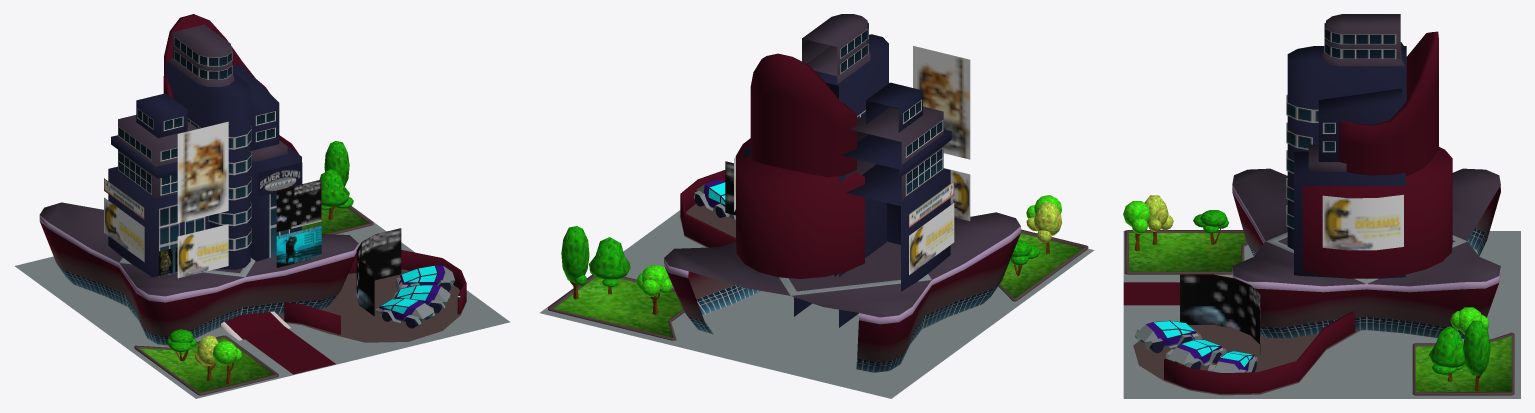
File: cinema_LV3.fbx
3 views of the same model, side by side, from view 1: azimuth 30°, elevation 25°; view 2: azimuth 150°, elevation 25°; view 3: azimuth 270°, elevation 25° (orthographic). The views are drawn at different scales.
Visible parts, largest first — view 1: Cinema_Lv3; view 2: Cinema_Lv3; view 3: Cinema_Lv3.
Part boxes in pixels (x1,y1,x2,y2): Cinema_Lv3: (15,14,510,398); Cinema_Lv3: (540,14,1094,398); Cinema_Lv3: (1123,14,1520,398).
Size of the model in its own units: 120 by 90.89 by 120.
